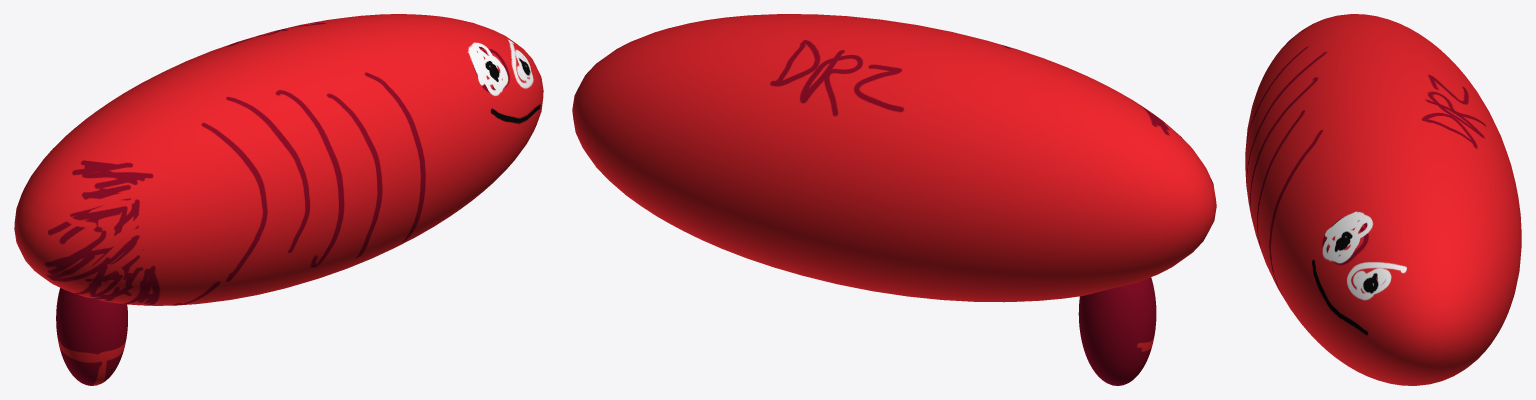
The model's file is fish.glb.
3 renders of one model, left to right at view 1: azimuth 30°, elevation 25°; view 2: azimuth 150°, elevation 25°; view 3: azimuth 270°, elevation 25°, orthographic. The views are drawn at different scales.
Bounding box in the file's own units: 0.6313 × 0.3104 × 0.2606.
Materials: 2 (2 with a texture image).
